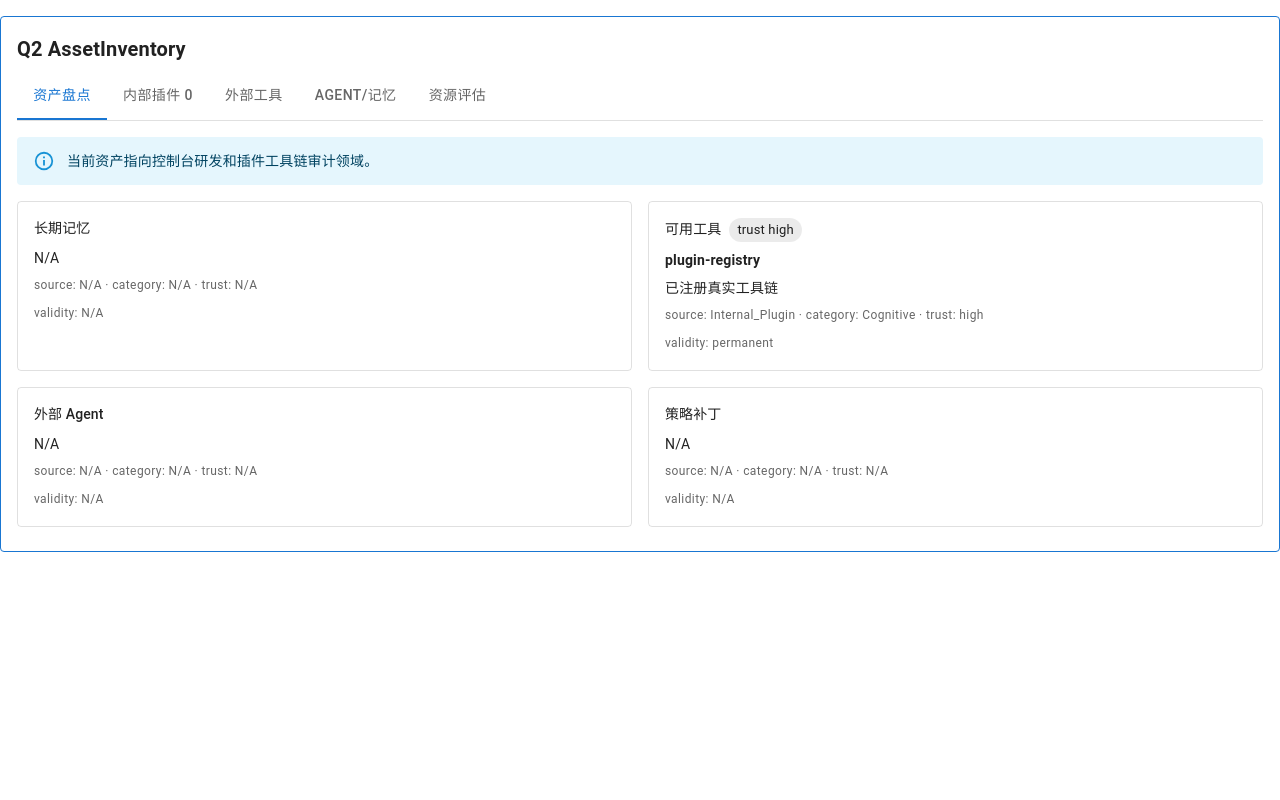
Test: Q2EvidencePanel › renders asset inventory and resource evaluation
Expected: the heading "Q2 AssetInventory" is shown, x1=17 y1=37 x2=186 y2=61
Expected: the text "已注册真实工具链" is shown, x1=665 y1=280 x2=778 y2=296
Click the tab "资源评估": x=458, y=96 x1=412 y1=72 x2=502 y2=120
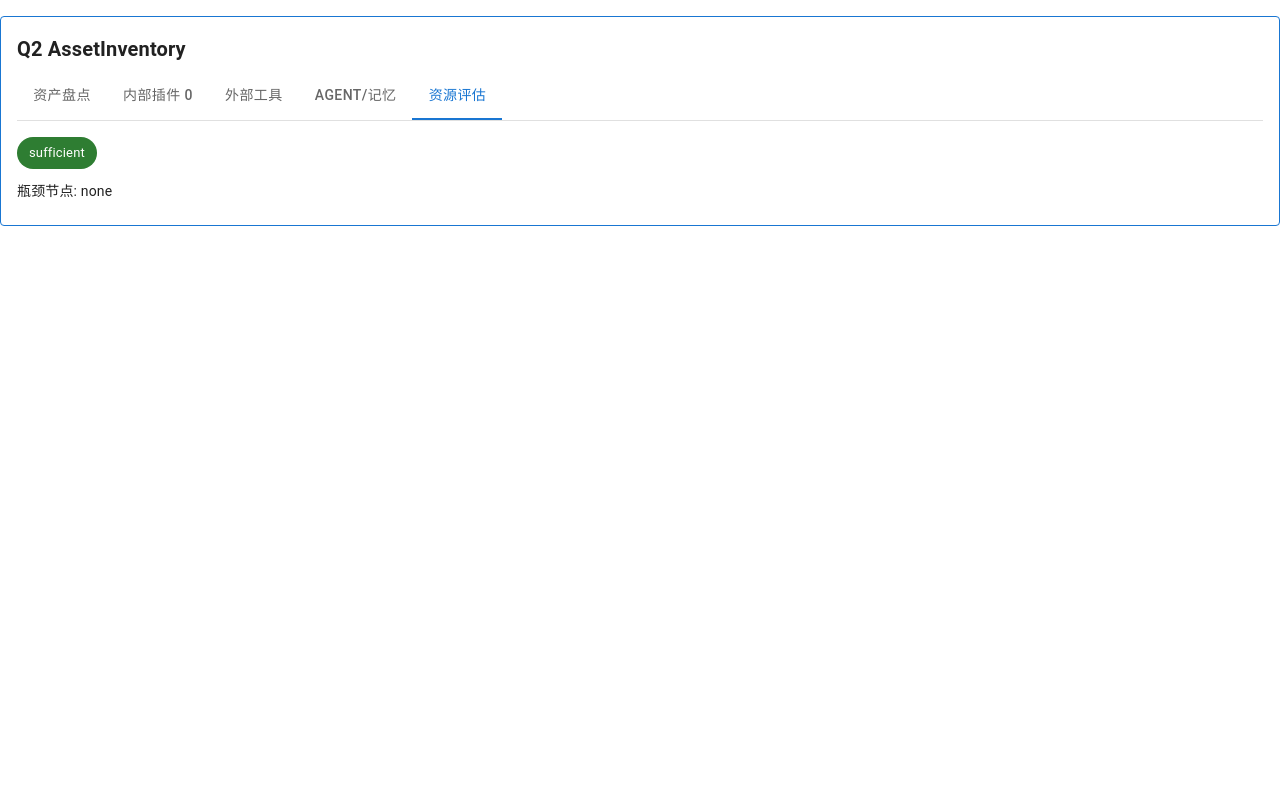
Result: the text "sufficient" is shown at x1=29 y1=145 x2=85 y2=160
